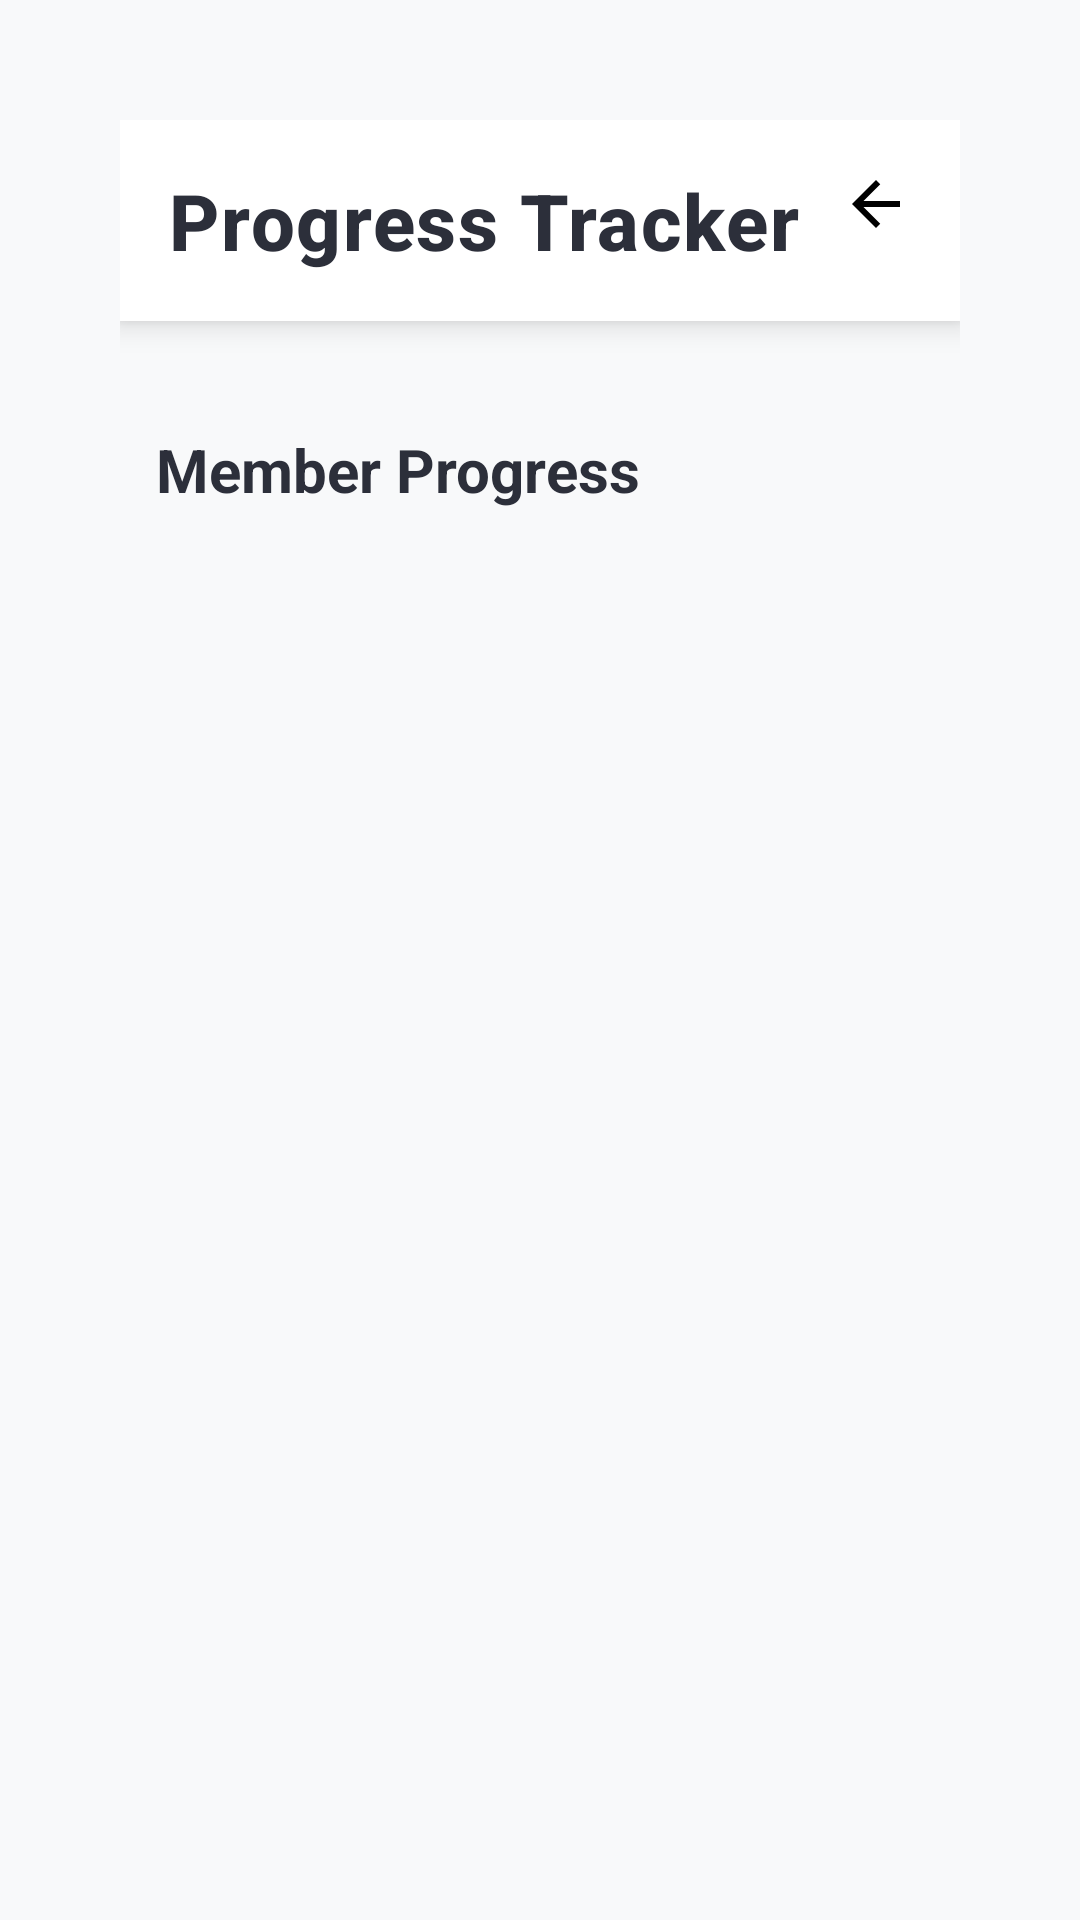

Where to tap for icons on this 1080x1920 app screen, as (x=x, y=y):
Go back: (x=876, y=204)
